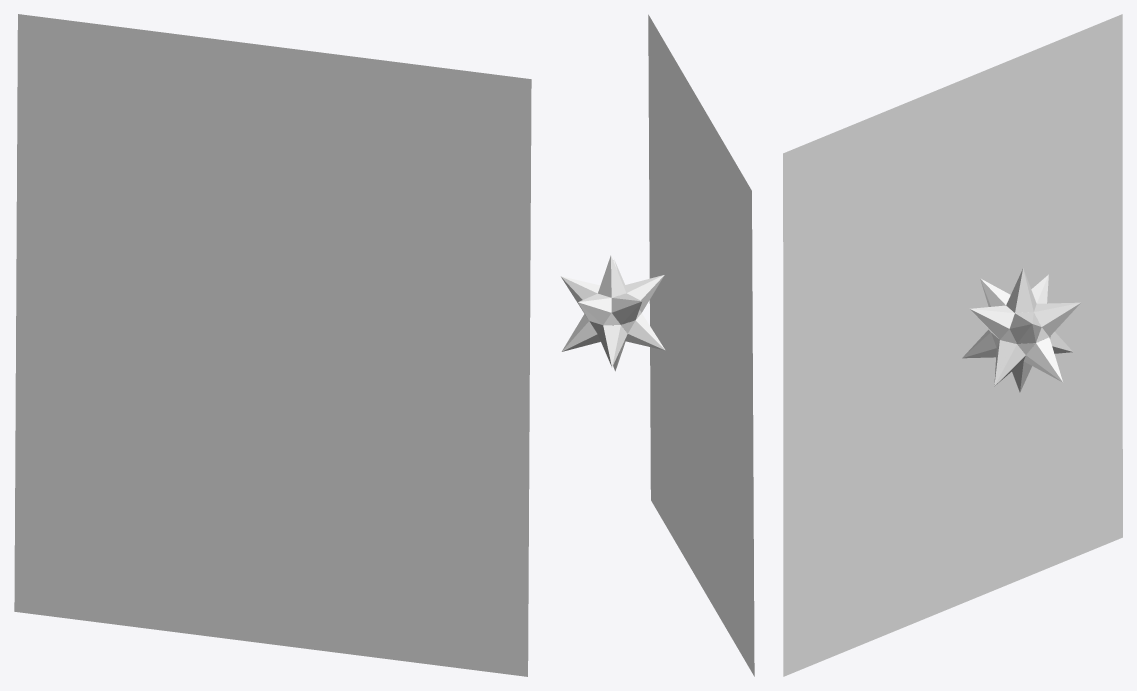
Rendered from starTransform.fbx.
3 views of the same model, side by side, from view 1: azimuth 30°, elevation 25°; view 2: azimuth 150°, elevation 25°; view 3: azimuth 270°, elevation 25° (orthographic). The views are drawn at different scales.
Parts seen in each view (by area): view 1: glow; view 2: glow, Icosphere.003, Icosphere.011, Icosphere.005, Icosphere.006, Icosphere.012, Icosphere.001, Icosphere.004, Icosphere.010, Icosphere; view 3: glow, Icosphere.011, Icosphere.002, Icosphere.012, Icosphere.009, Icosphere.010, Icosphere.004, Icosphere.007.
Boxes of the visible parts, x1,y1,x2,y2 form: glow: (14, 14, 531, 676); glow: (648, 14, 754, 676); Icosphere.003: (597, 325, 627, 367); Icosphere.011: (578, 293, 611, 324); Icosphere.005: (611, 293, 642, 324); Icosphere.006: (624, 313, 665, 350); Icosphere.012: (561, 314, 600, 351); Icosphere.001: (623, 275, 664, 312); Icosphere.004: (598, 255, 625, 297); Icosphere.010: (560, 276, 600, 313); Icosphere: (584, 309, 641, 333); glow: (783, 14, 1122, 676); Icosphere.011: (1034, 302, 1080, 336); Icosphere.002: (970, 305, 1014, 339); Icosphere.012: (1024, 337, 1062, 382); Icosphere.009: (994, 340, 1025, 386); Icosphere.010: (1009, 312, 1041, 343); Icosphere.004: (1006, 268, 1036, 313); Icosphere.007: (962, 329, 996, 358).
Bounding box in the file's own units: 2.72 × 4.8 × 2.81.
